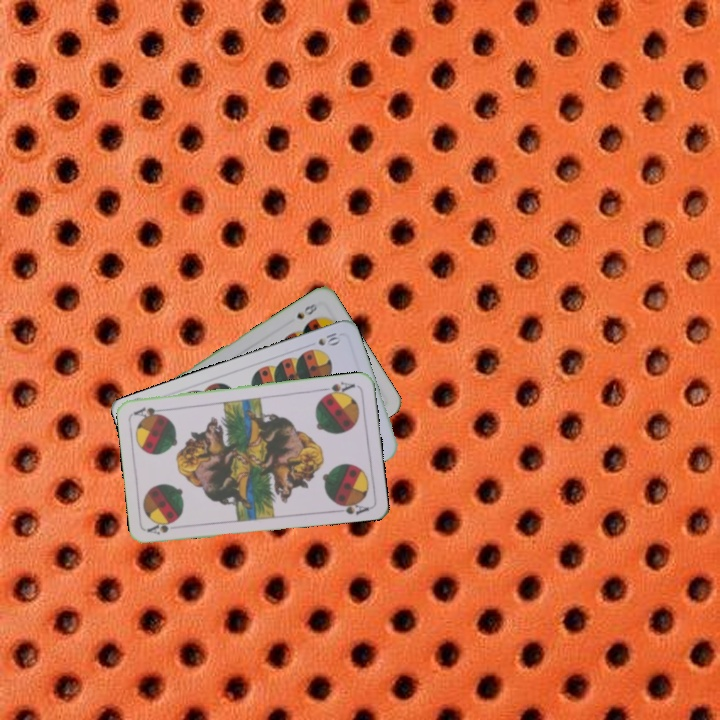S10: (314, 329, 343, 348)
S8: (293, 299, 320, 322)
SA: (318, 378, 358, 399), (144, 517, 179, 538)
